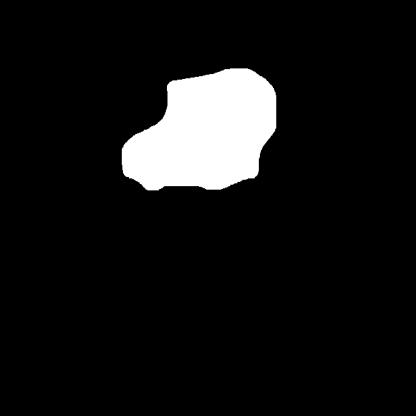malignant: (113, 57, 281, 197)
